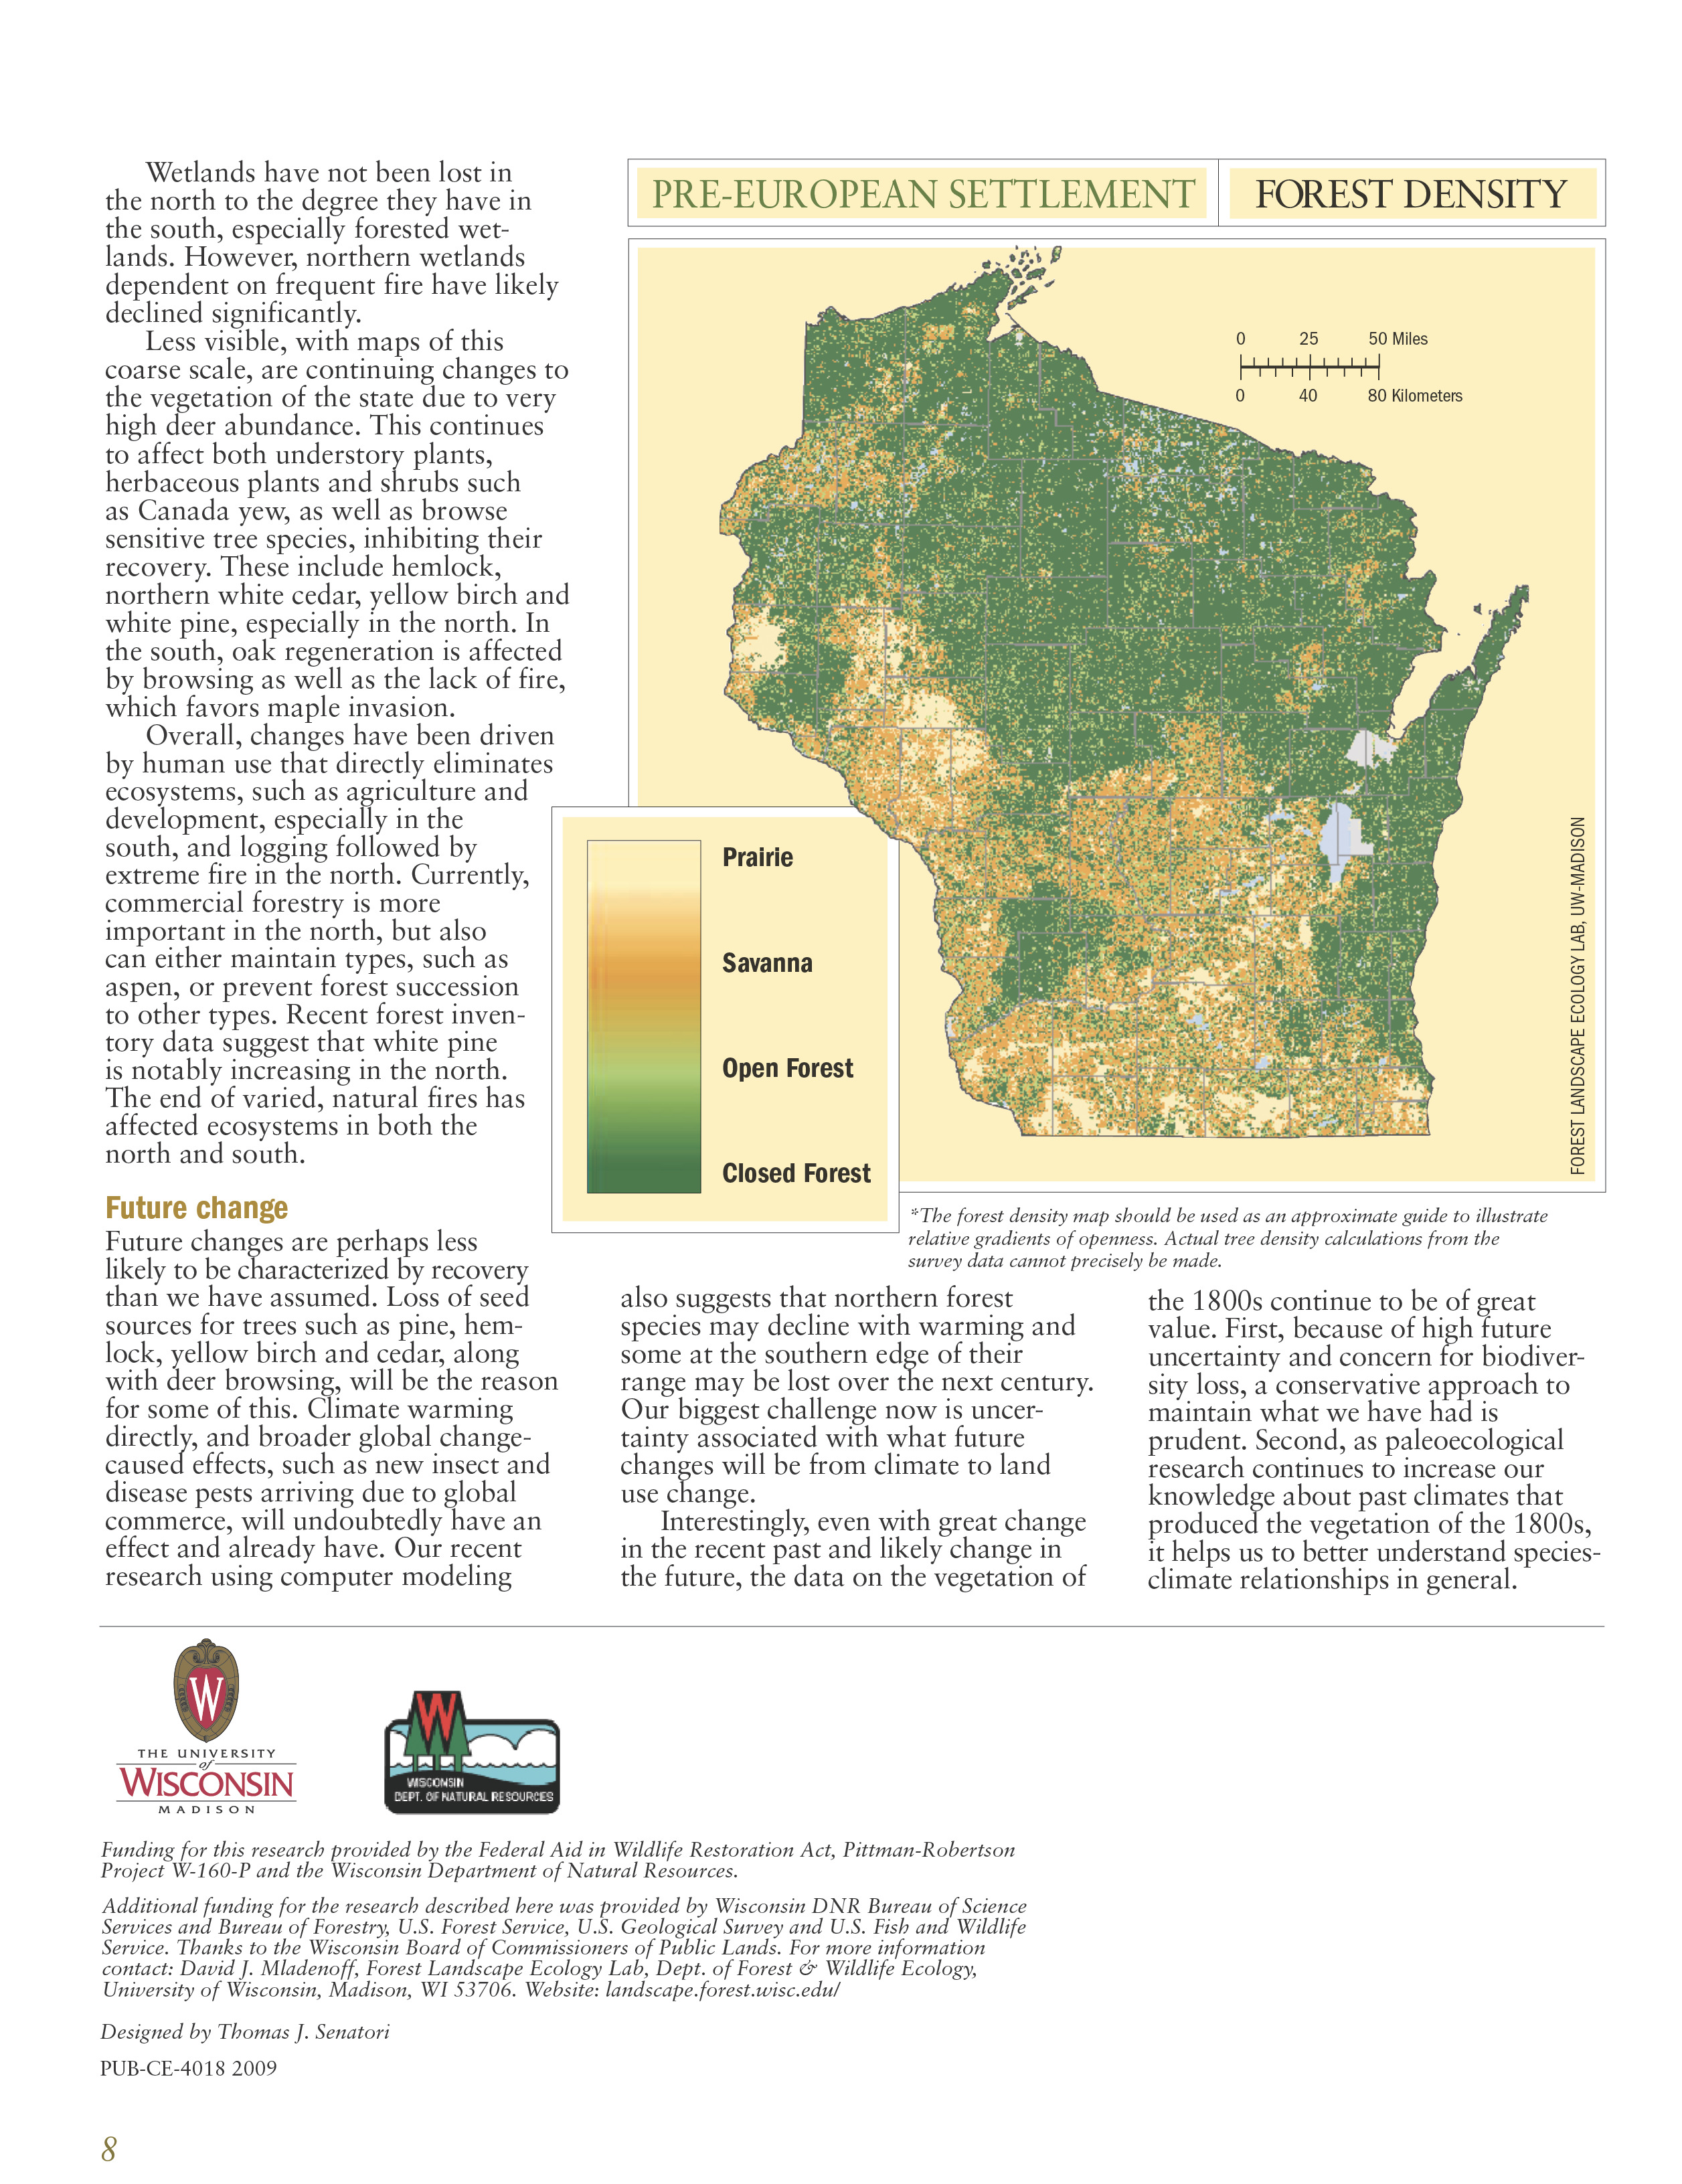caption: (905, 1200, 1555, 1267)
figure: (562, 161, 1594, 1232), (118, 1636, 288, 1811), (392, 1684, 564, 1815)
section: (102, 1193, 292, 1225)
text: (102, 737, 551, 1173), (106, 339, 558, 724), (106, 1232, 558, 1594), (1145, 1286, 1601, 1594), (622, 1295, 1094, 1507), (97, 1900, 1016, 2007), (102, 163, 558, 327), (99, 1834, 1023, 1885), (625, 1516, 1094, 1587), (99, 2018, 389, 2087)
